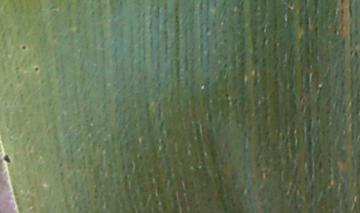tarspot: (2, 154, 12, 163), (33, 66, 39, 72), (21, 45, 27, 50)
